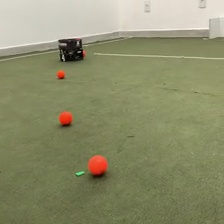ball: (88, 153, 108, 178), (58, 110, 72, 126), (55, 69, 66, 79)
goal: (207, 14, 224, 40)
robot: (57, 36, 84, 62)
